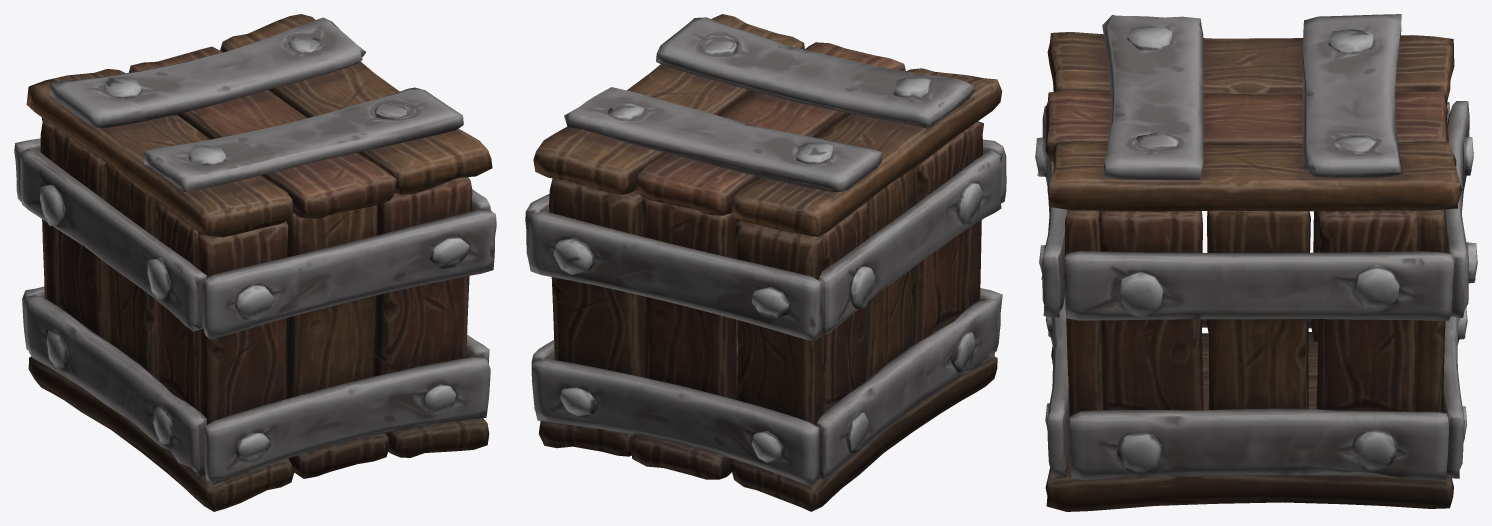
3 renders of one model, left to right at view 1: azimuth 30°, elevation 25°; view 2: azimuth 150°, elevation 25°; view 3: azimuth 270°, elevation 25°, orthographic. The views are drawn at different scales.
Parts seen in each view (by area): view 1: Wood_Low, Metal_low, Bolt_Low; view 2: Wood_Low, Metal_low, Bolt_Low; view 3: Wood_Low, Metal_low, Bolt_Low.
Part boxes in pixels (x1=…): Wood_Low: x1=26, y1=14, x2=492, y2=511; Metal_low: x1=14, y1=17, x2=496, y2=484; Bolt_Low: x1=40, y1=36, x2=469, y2=460; Wood_Low: x1=533, y1=14, x2=1002, y2=511; Metal_low: x1=525, y1=17, x2=1006, y2=486; Bolt_Low: x1=553, y1=40, x2=982, y2=462; Wood_Low: x1=1045, y1=32, x2=1461, y2=511; Metal_low: x1=1042, y1=14, x2=1469, y2=480; Bolt_Low: x1=1035, y1=26, x2=1477, y2=474.
Bounding box in the file's own units: 1.79 × 1.77 × 2.
Materials: 1 (1 with a texture image).
